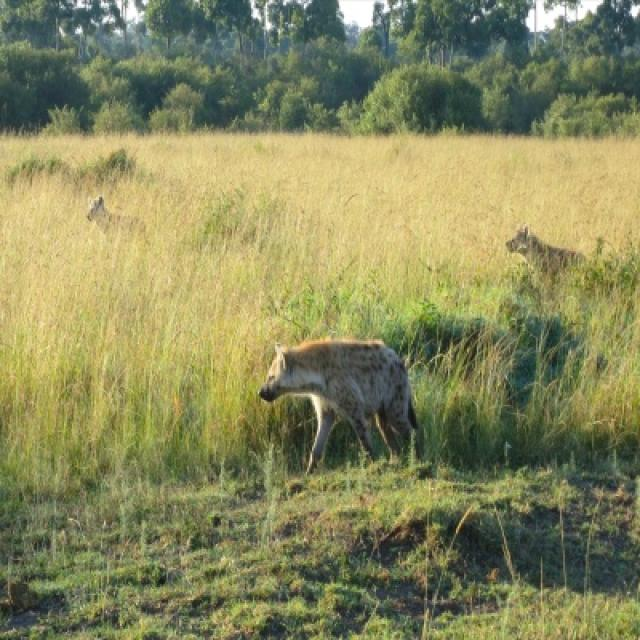hyena: (259, 339, 419, 472), (507, 226, 589, 400), (521, 340, 536, 363)
